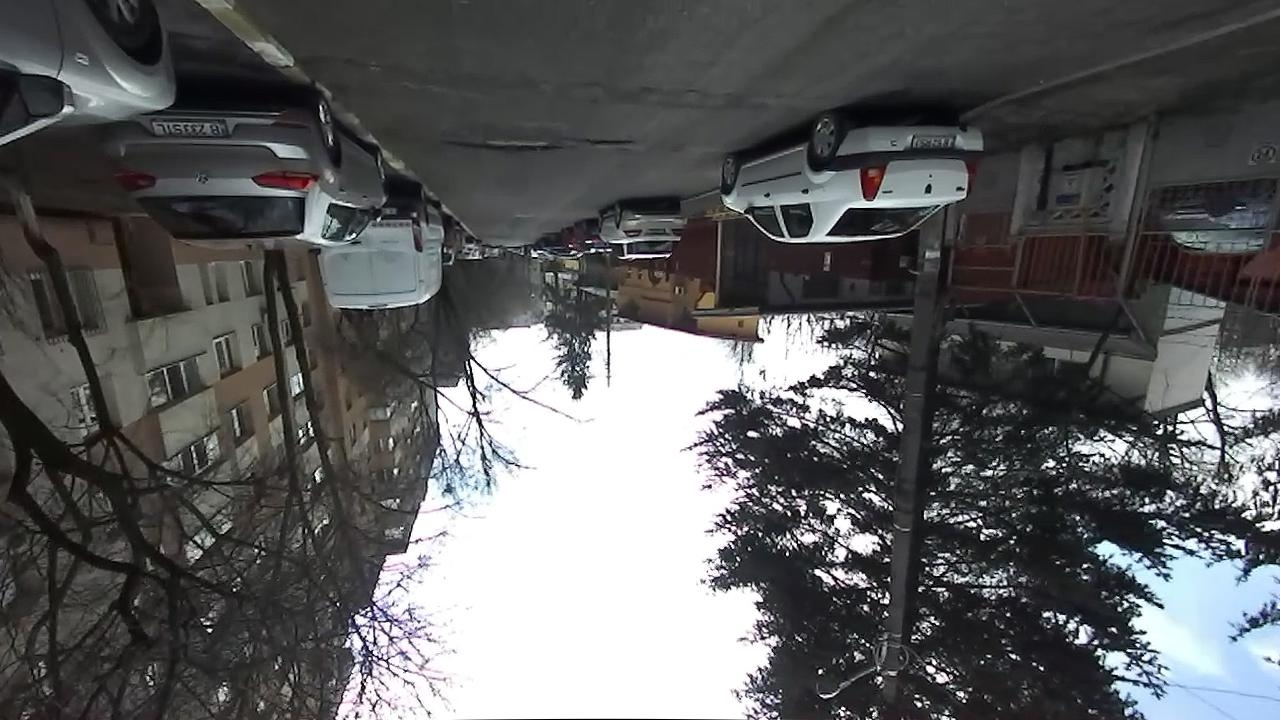pothole: (440, 133, 564, 156), (578, 134, 635, 147)
